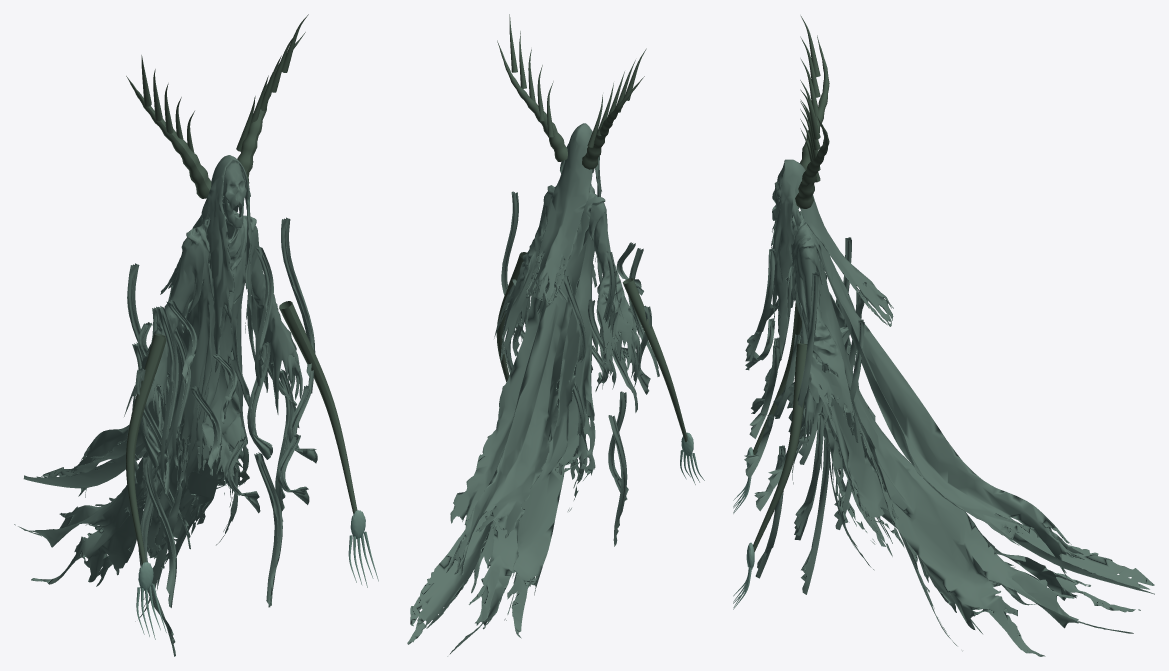
File: 01-whispering-pines.glb
3 views of the same model, side by side, from view 1: azimuth 30°, elevation 25°; view 2: azimuth 150°, elevation 25°; view 3: azimuth 270°, elevation 25° (orthographic). The views are drawn at different scales.
Parts seen in each view (by area): view 1: sculpt (×4); view 2: sculpt (×3); view 3: sculpt (×2).
Boxes of the visible parts, <box> form: sculpt (×4): <box>14,14,378,656</box>; sculpt (×3): <box>407,14,704,656</box>; sculpt (×2): <box>744,15,1154,656</box>.
Bounding box in the file's own units: 1.88 × 4.99 × 3.18.
